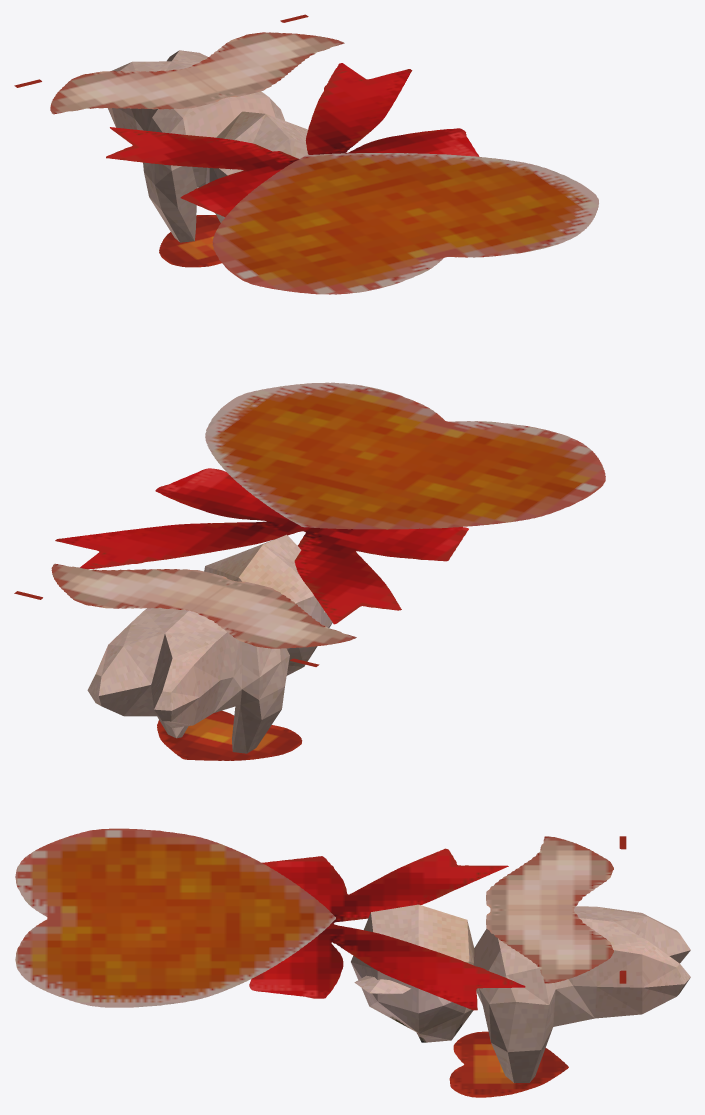
File: huisuo_dongxue_209_bear01.obj
3 renders of one model, top to bottom at view 1: azimuth 30°, elevation 25°; view 2: azimuth 150°, elevation 25°; view 3: azimuth 270°, elevation 25°, orthographic. The views are drawn at different scales.
Parts seen in each view (by area): view 1: huisuo_dongxue_209_bear01; view 2: huisuo_dongxue_209_bear01; view 3: huisuo_dongxue_209_bear01.
Boxes of the visible parts, left/top/right/bottom form: huisuo_dongxue_209_bear01: left=14, top=14, right=598, bottom=294; huisuo_dongxue_209_bear01: left=14, top=382, right=605, bottom=760; huisuo_dongxue_209_bear01: left=15, top=828, right=690, bottom=1097.
Size of the model in its own units: 14.81 by 4.91 by 18.71.
1 material, 1 textured.
